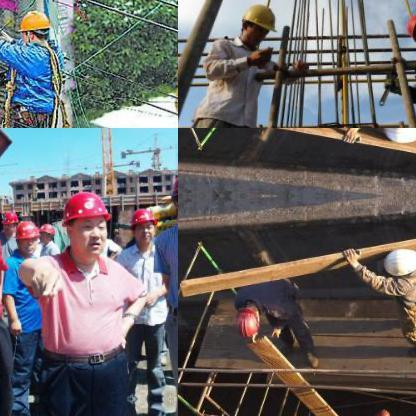Helmet: (51, 188, 107, 250), (238, 3, 276, 47), (379, 243, 415, 283), (15, 6, 49, 42), (232, 300, 262, 338), (128, 206, 156, 244), (379, 128, 415, 146), (15, 219, 35, 249), (37, 220, 55, 244), (403, 9, 415, 43), (0, 209, 15, 233), (369, 407, 391, 415)
